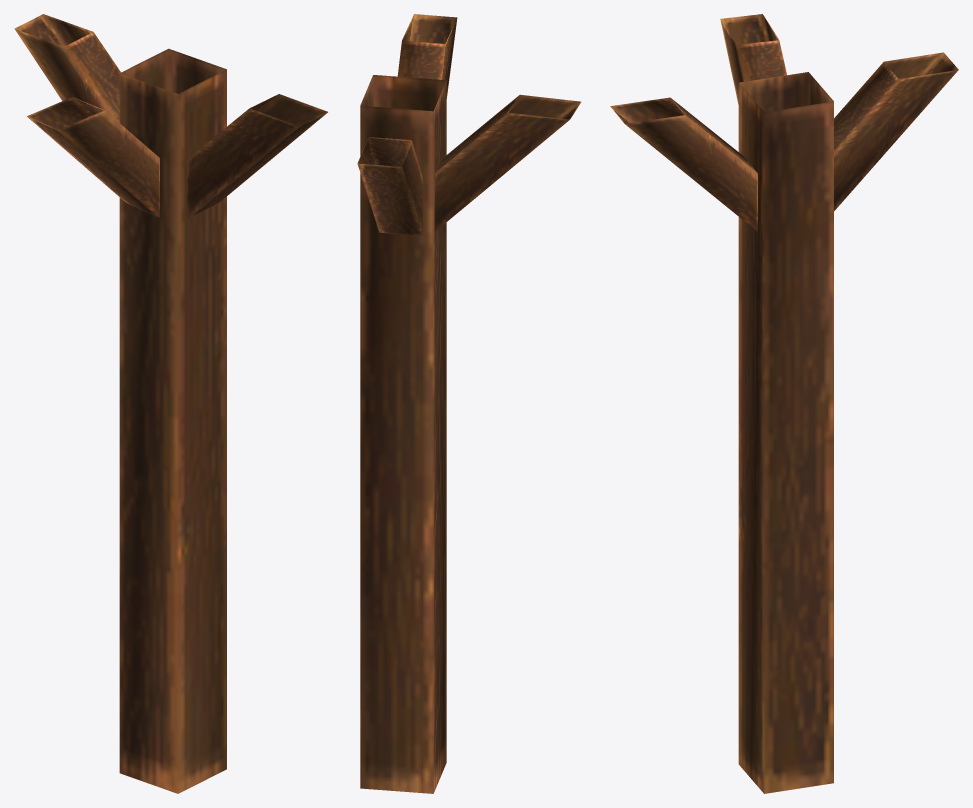
File: SWORDLIGHT20_JAILPLATSUPPORT74.fbx
3 views of the same model, side by side, from view 1: azimuth 30°, elevation 25°; view 2: azimuth 150°, elevation 25°; view 3: azimuth 270°, elevation 25° (orthographic). The views are drawn at different scales.
Parts seen in each view (by area): view 1: SWORDLIGHT20_JAILPLATSUPPORT74; view 2: SWORDLIGHT20_JAILPLATSUPPORT74; view 3: SWORDLIGHT20_JAILPLATSUPPORT74.
Part boxes in pixels (x1,y1,x2,y2): SWORDLIGHT20_JAILPLATSUPPORT74: (14,14,327,793); SWORDLIGHT20_JAILPLATSUPPORT74: (357,14,580,793); SWORDLIGHT20_JAILPLATSUPPORT74: (610,14,958,793).
Size of the model in its own units: 13972 by 40610 by 18759.
Materials: 1 (1 with a texture image).
